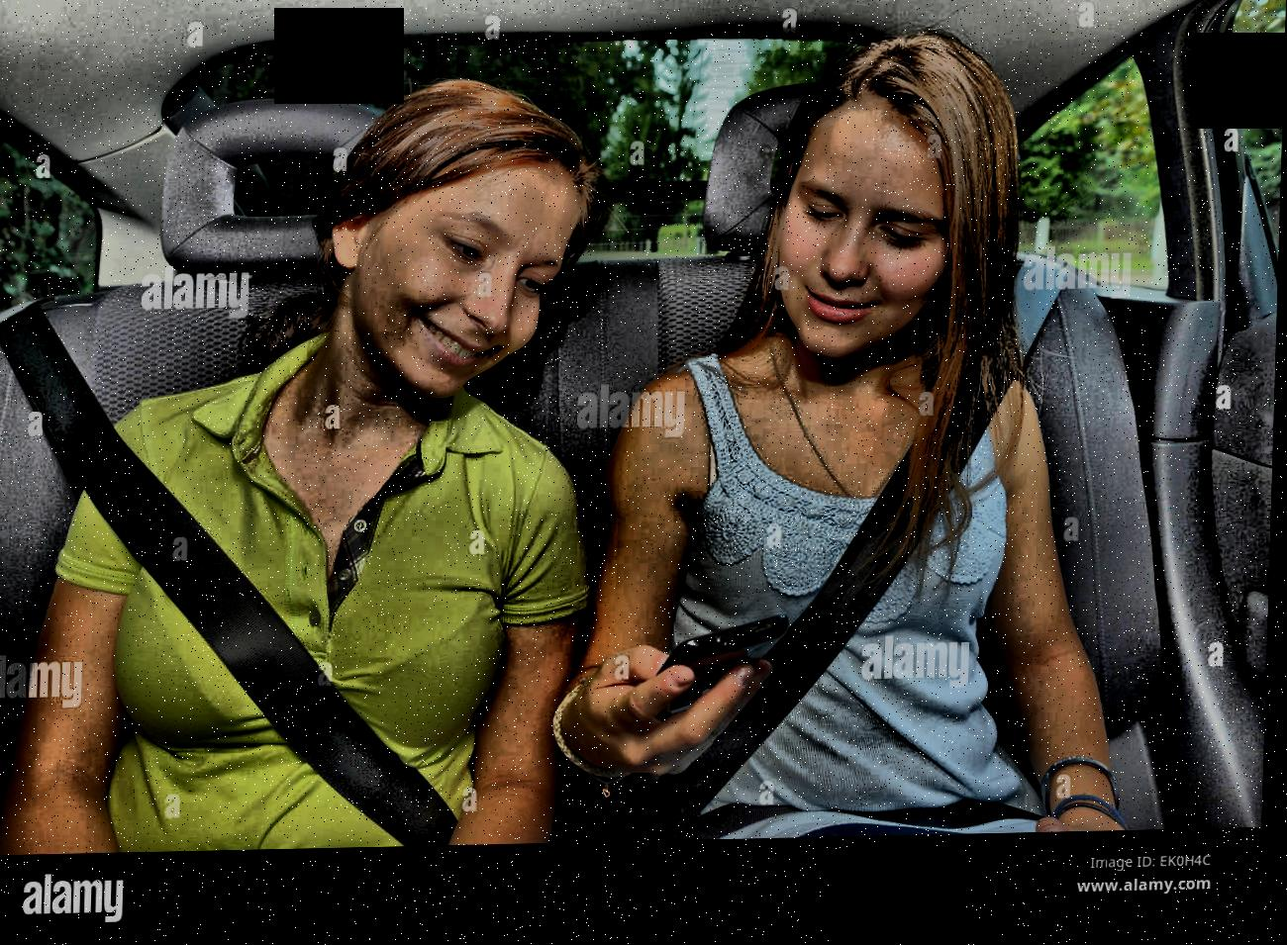seatbelt: (638, 230, 1094, 841), (0, 288, 491, 850)
